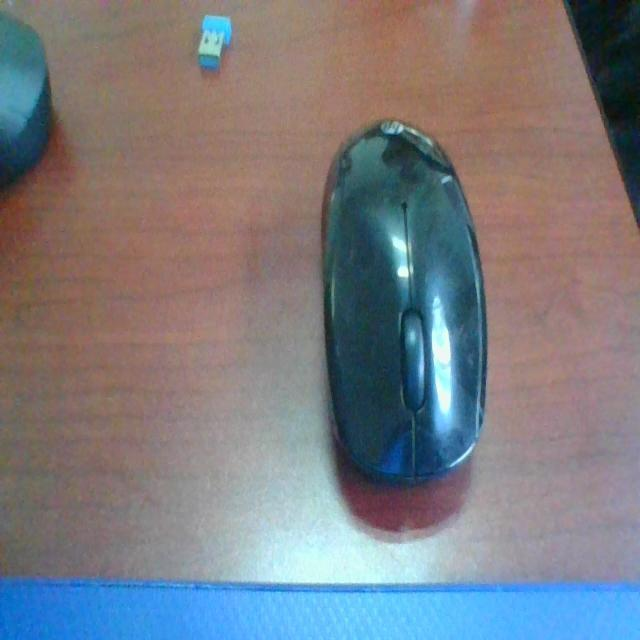Mouse: (311, 104, 501, 512)
